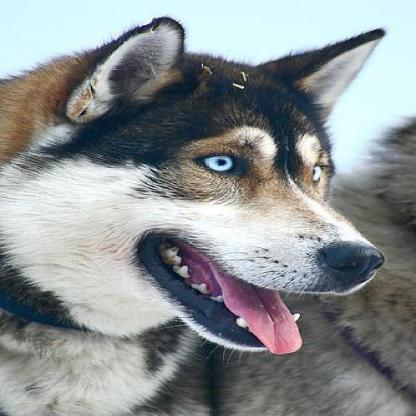Eskimo_dog: (0, 17, 386, 414)
